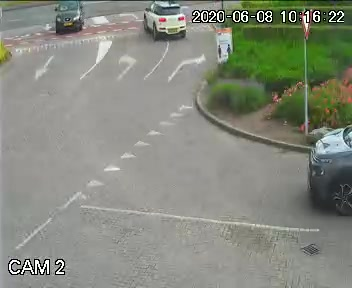car: (298, 111, 352, 211), (130, 0, 193, 45), (34, 0, 98, 43)
